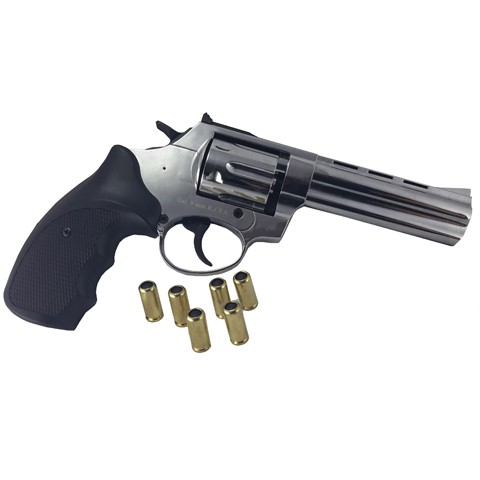Revolver: (4, 97, 477, 362)
